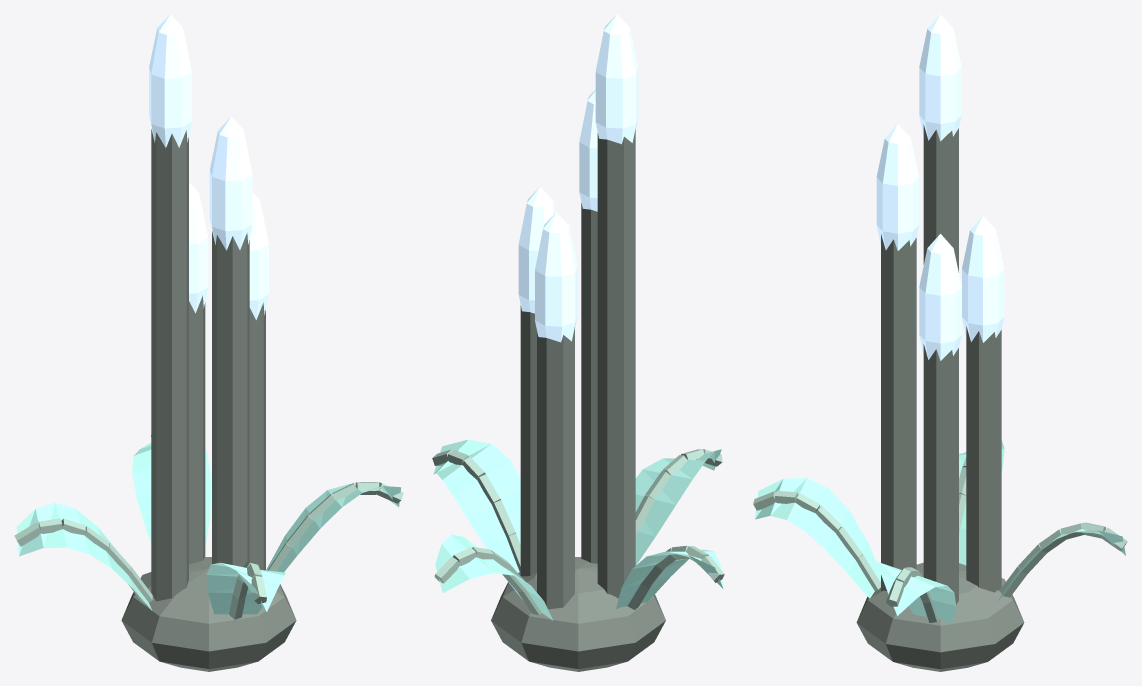
The model's file is mineralreed-young.glb.
3 renders of one model, left to right at view 1: azimuth 30°, elevation 25°; view 2: azimuth 150°, elevation 25°; view 3: azimuth 270°, elevation 25°, orthographic. The views are drawn at different scales.
Visible parts, largest first — view 1: mineralreed.sway-pivot; view 2: mineralreed.sway-pivot; view 3: mineralreed.sway-pivot.
Boxes of the visible parts, box(x1,y1,x2,y2) form: mineralreed.sway-pivot: box(14, 14, 403, 671); mineralreed.sway-pivot: box(432, 14, 724, 671); mineralreed.sway-pivot: box(753, 14, 1127, 671).
Bounding box in the file's own units: 0.3375 × 0.624 × 0.3375.
